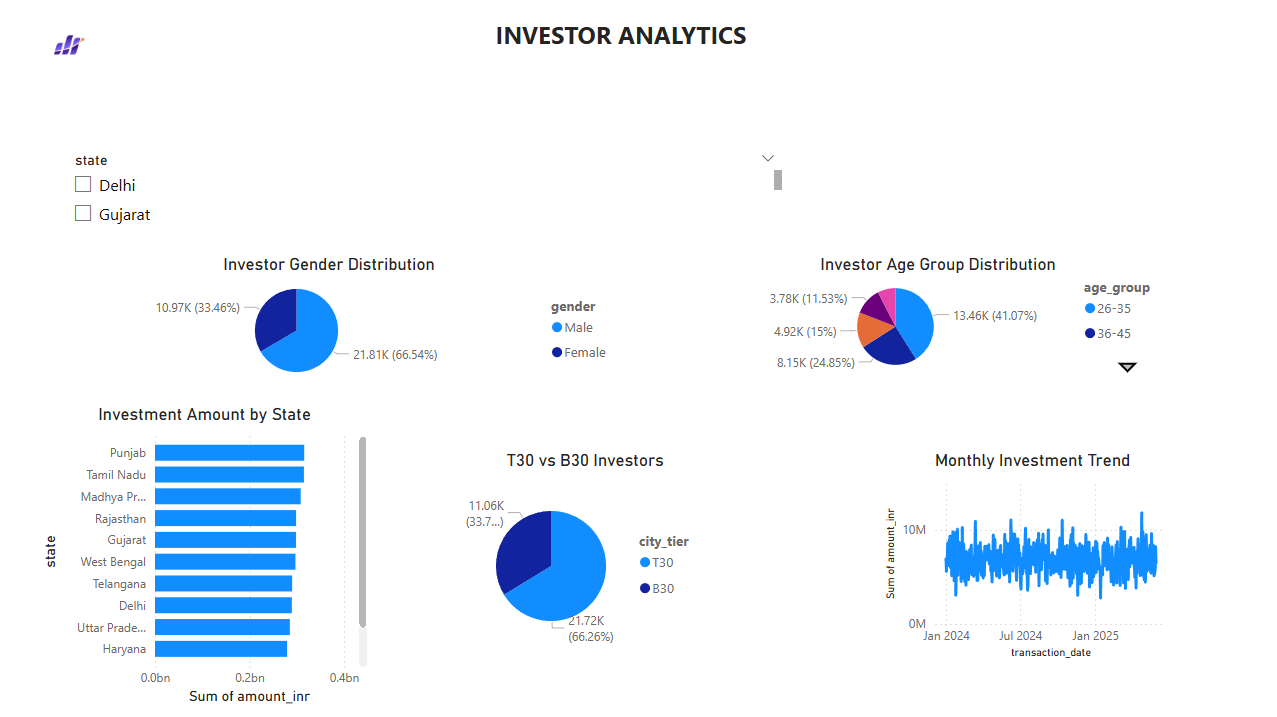

Layout of this report page (visuals, bound fields, positions):
{"tool":"powerbi","page":{"name":"Investor Analytics","canvas":[1280,720],"ordinal":2},"visuals":[{"type":"pieChart","title":"Investor Gender Distribution","fields":{"Category":["08_investor_transactions_clean.gender"],"Y":["CountNonNull(08_investor_transactions_clean.investor_id)"]},"box":[37.6,253.7,584.7,134.7],"z":0},{"type":"pieChart","title":"Investor Age Group Distribution","fields":{"Category":["08_investor_transactions_clean.age_group"],"Y":["CountNonNull(08_investor_transactions_clean.investor_id)"]},"box":[702.6,253.7,471.9,126.3],"z":1000},{"type":"clusteredBarChart","title":"Investment Amount by State","fields":{"Category":["08_investor_transactions_clean.state"],"Y":["Sum(08_investor_transactions_clean.amount_inr)"]},"box":[37.6,404,335.1,304.9],"z":2000},{"type":"pieChart","title":"T30 vs B30 Investors","fields":{"Category":["08_investor_transactions_clean.city_tier"],"Y":["CountNonNull(08_investor_transactions_clean.investor_id)"]},"box":[459.4,450,253.7,213],"z":3000},{"type":"lineChart","title":"Monthly Investment Trend","fields":{"Category":["08_investor_transactions_clean.transaction_date"],"Y":["Sum(08_investor_transactions_clean.amount_inr)"]},"box":[881.2,450,304.9,213],"z":4000},{"type":"slicer","fields":{"Values":["08_investor_transactions_clean.state"]},"box":[62.6,147.2,725.6,86.7],"z":5000},{"type":"textbox","box":[485.5,12.5,273.5,54.3],"z":6000},{"type":"image","box":[20,20,100,50],"z":6001}]}

Visuals, with their boxes in screenshot pixels (x1, y1, x2, y2), scaled from the page's 1280x720 canvas onto the 1277x717 screenshot:
"Investor Gender Distribution" pieChart: x1=38 y1=253 x2=621 y2=387
"Investor Age Group Distribution" pieChart: x1=701 y1=253 x2=1172 y2=378
"Investment Amount by State" clusteredBarChart: x1=38 y1=402 x2=372 y2=706
"T30 vs B30 Investors" pieChart: x1=458 y1=448 x2=711 y2=660
"Monthly Investment Trend" lineChart: x1=879 y1=448 x2=1183 y2=660
slicer - 08_investor_transactions_clean.state: x1=62 y1=147 x2=786 y2=233
textbox: x1=484 y1=12 x2=757 y2=67
image: x1=20 y1=20 x2=120 y2=70
